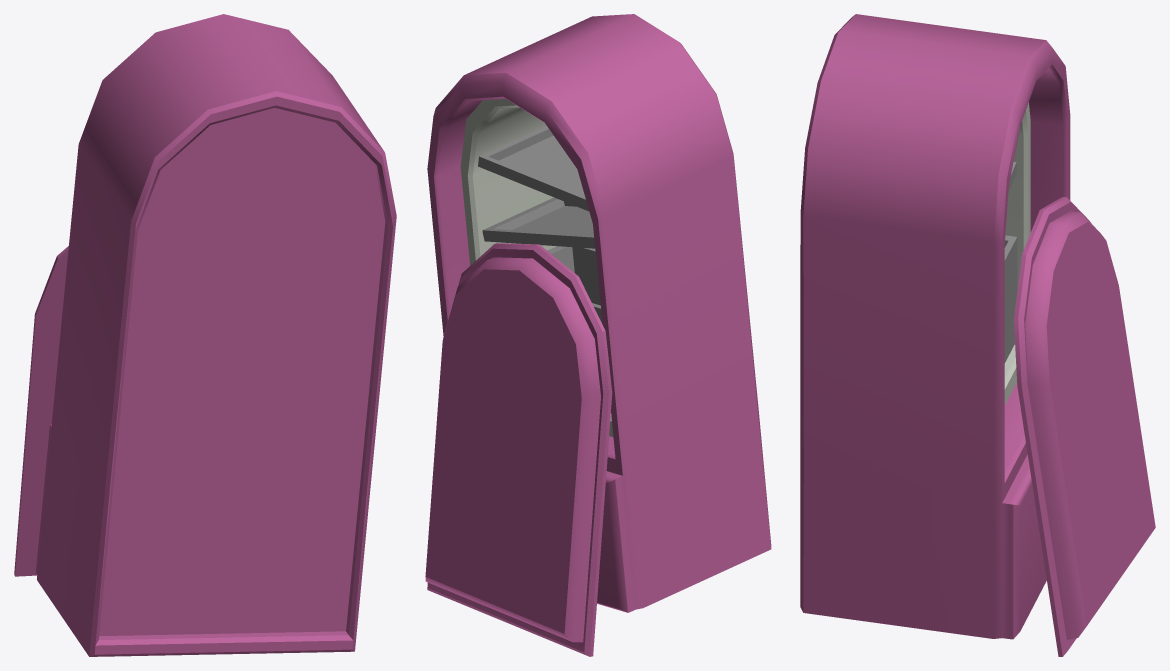
Rendered from SM_refrigerator_B.fbx.
3 views of the same model, side by side, from view 1: azimuth 30°, elevation 25°; view 2: azimuth 150°, elevation 25°; view 3: azimuth 270°, elevation 25° (orthographic). The views are drawn at different scales.
Visible parts, largest first — view 1: polySurface146; view 2: polySurface146; view 3: polySurface146.
Part boxes in pixels (x1,y1,x2,y2): polySurface146: (14,14,396,656); polySurface146: (425,14,771,656); polySurface146: (800,14,1155,656).
Size of the model in its own units: 210 by 368 by 208.
